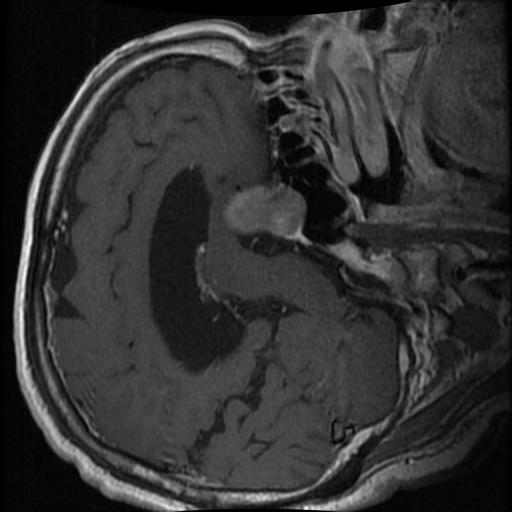pituitary tumour: (221, 183, 304, 239)
